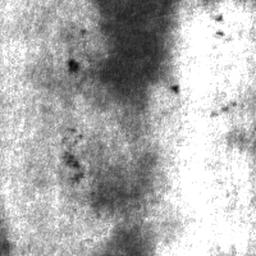Patches: (99, 0, 173, 110)
